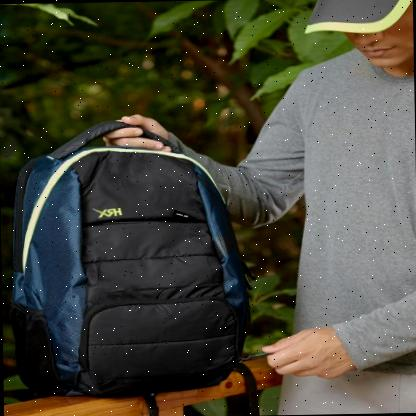bag: (5, 114, 254, 402)
person: (229, 0, 416, 415)
